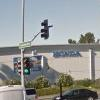Traffic light: (31, 16, 53, 46)
